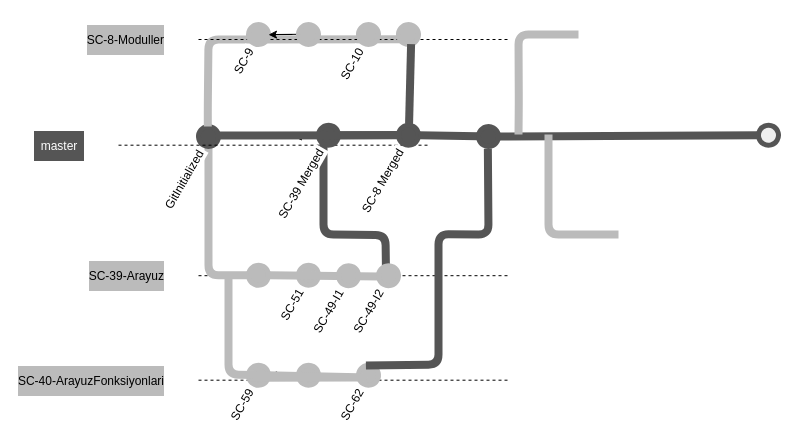
Some shapes in this 803 by 441 pixel diagram are drawn without their labels. The centre of each missing label's shape, as x and y in pixels:
SC-11: the point at 308,34
SC-12: the point at 408,34
SC-40 Merged: the point at 488,136
SC-52: the point at 258,275
SC-57: the point at 308,375
